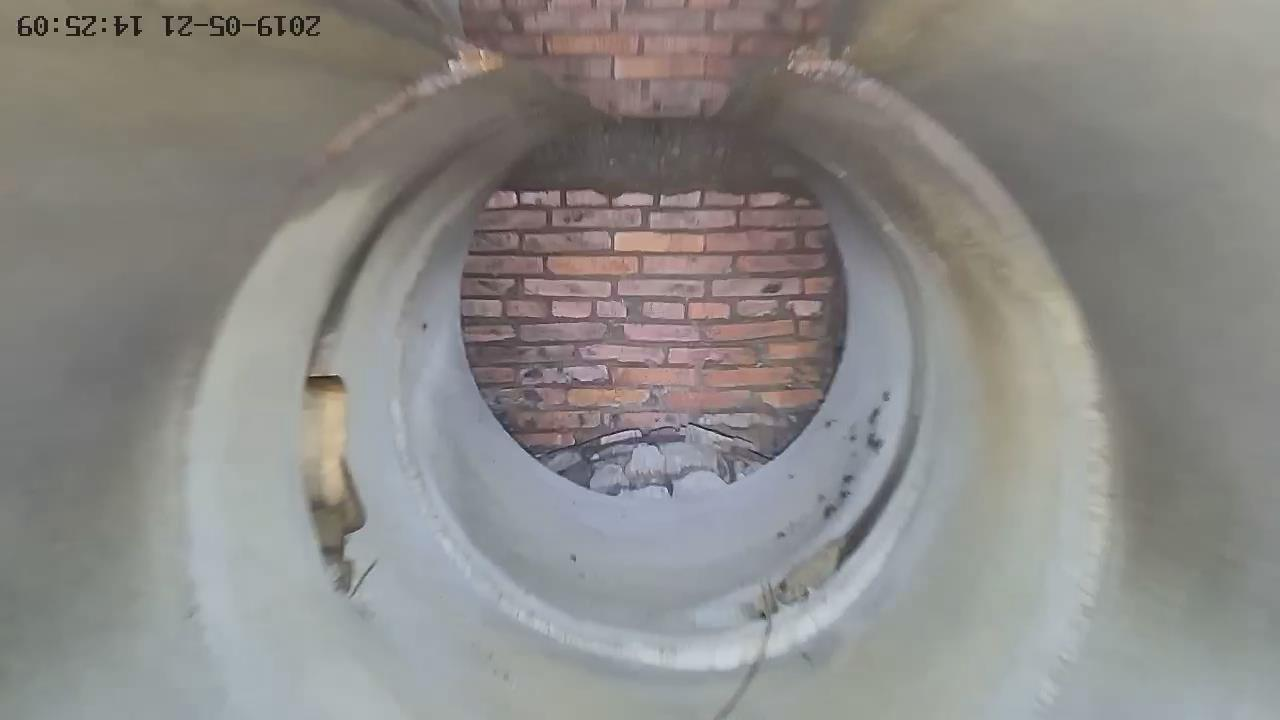CKTJ: (391, 401, 908, 671)
CQBG: (462, 135, 845, 494)
ZGAJ: (303, 376, 364, 588)
